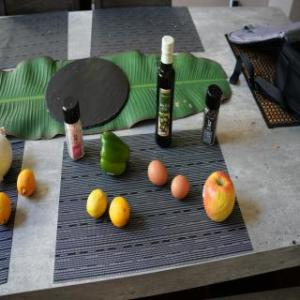bell_pepper: (96, 127, 132, 181)
egg: (144, 158, 169, 188), (171, 173, 191, 201)
onion: (0, 127, 14, 185)
